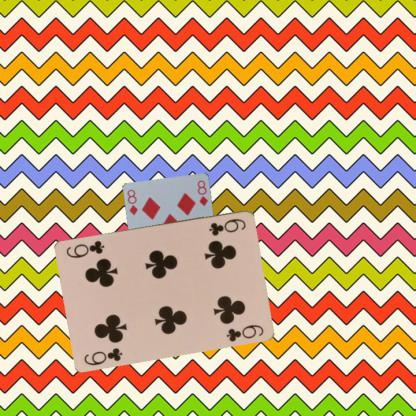6c: (82, 344, 124, 366), (206, 215, 247, 237)
8d: (125, 187, 139, 216)
